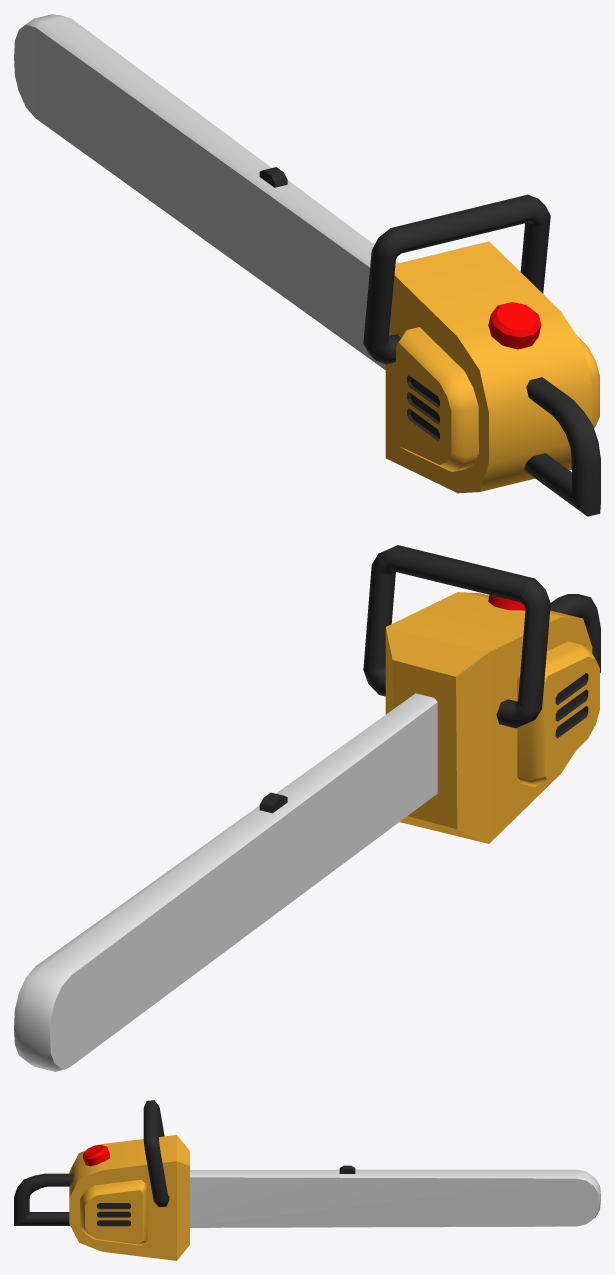
The model's file is chainsaw_7.fbx.
3 renders of one model, top to bottom at view 1: azimuth 30°, elevation 25°; view 2: azimuth 150°, elevation 25°; view 3: azimuth 270°, elevation 25°, orthographic. The views are drawn at different scales.
Visible parts, largest first — view 1: chainsaw_body, chainsaw_red_button; view 2: chainsaw_body; view 3: chainsaw_body, chainsaw_red_button.
Boxes of the visible parts, x1=… form: chainsaw_body: x1=14, y1=14, x2=600, y2=516; chainsaw_red_button: x1=488, y1=302, x2=541, y2=349; chainsaw_body: x1=14, y1=545, x2=600, y2=1071; chainsaw_body: x1=14, y1=1100, x2=600, y2=1260; chainsaw_red_button: x1=83, y1=1144, x2=109, y2=1166.
Bounding box in the file's own units: 86.32 × 120 × 490.
